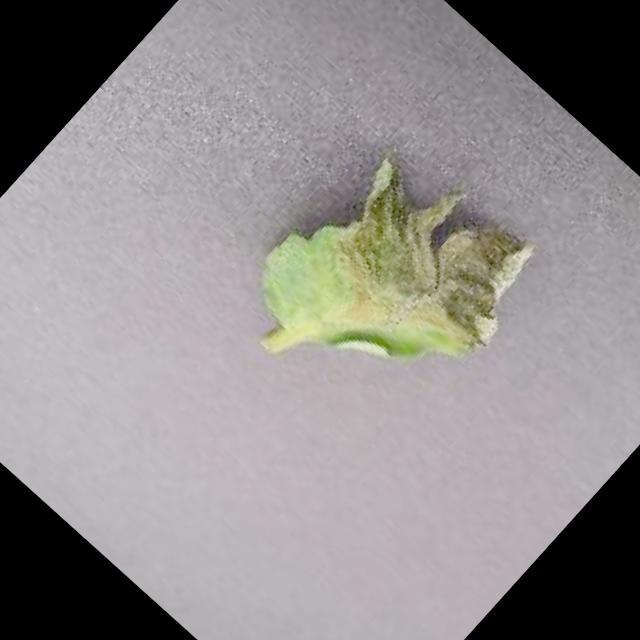Tomato late blight leaf: (233, 112, 560, 440)
